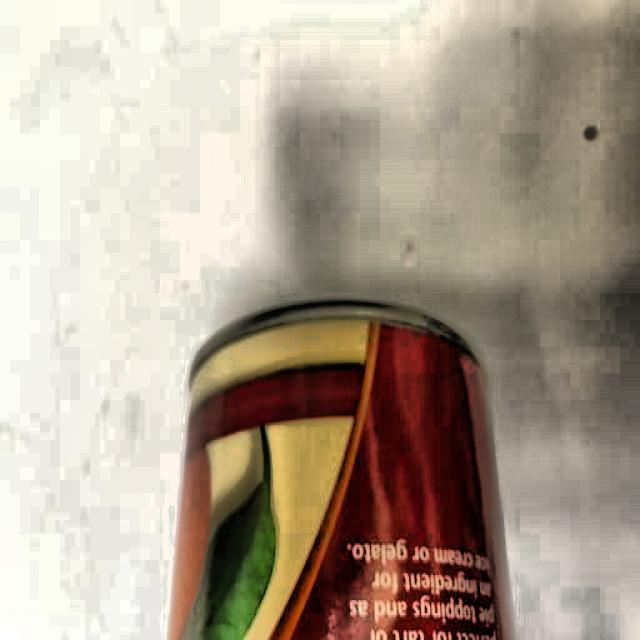metal: (171, 291, 512, 640)
